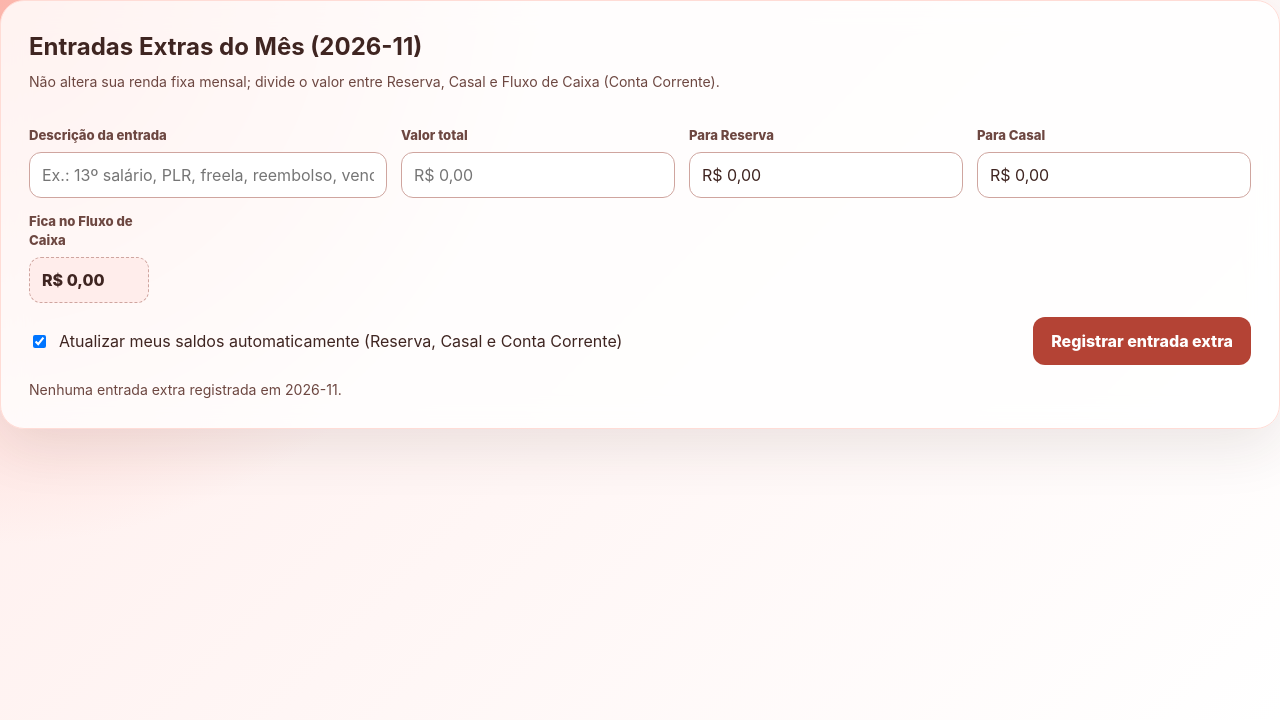
Test: ExtraIncomesSection › bloqueia envio quando Reserva + Casal excedem o valor total
Later steps or results of the test are not shown.
Type "Freela" into the field labelled "Descrição da entrada" at (208, 175), box [29,152,387,198]
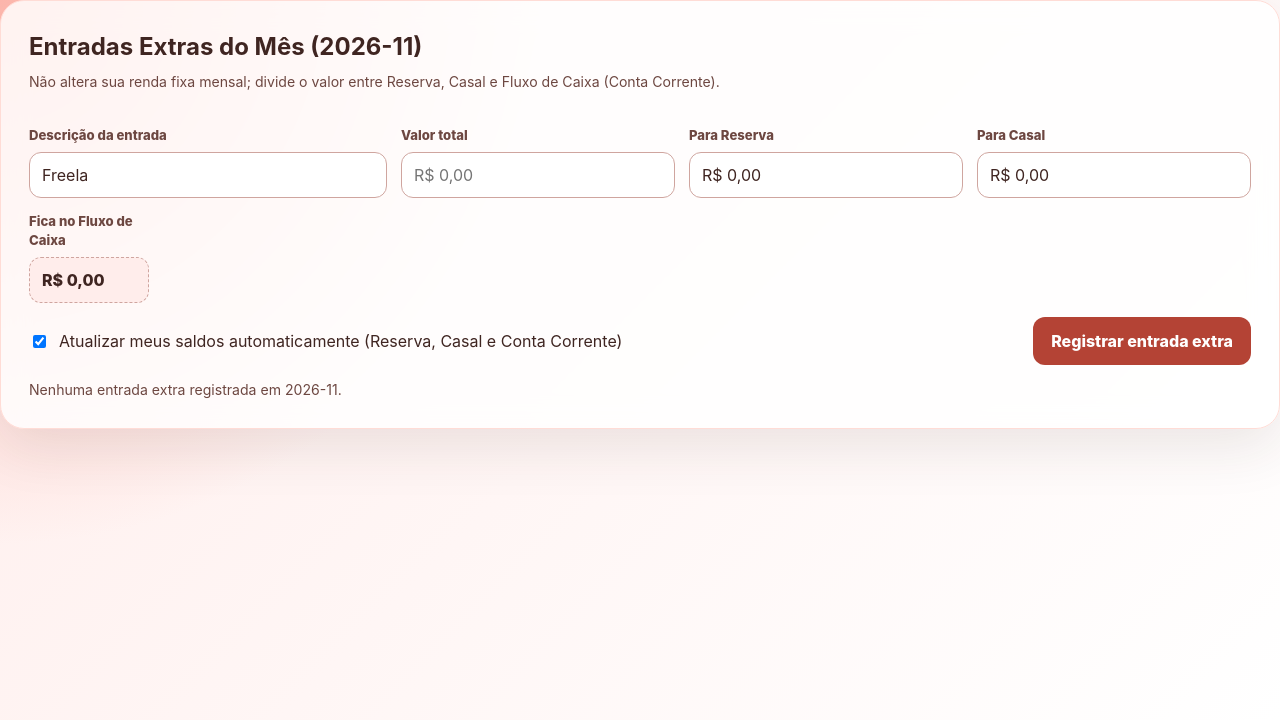
Type "100000" into the field labelled "Valor total" at (538, 175), box [401,152,675,198]
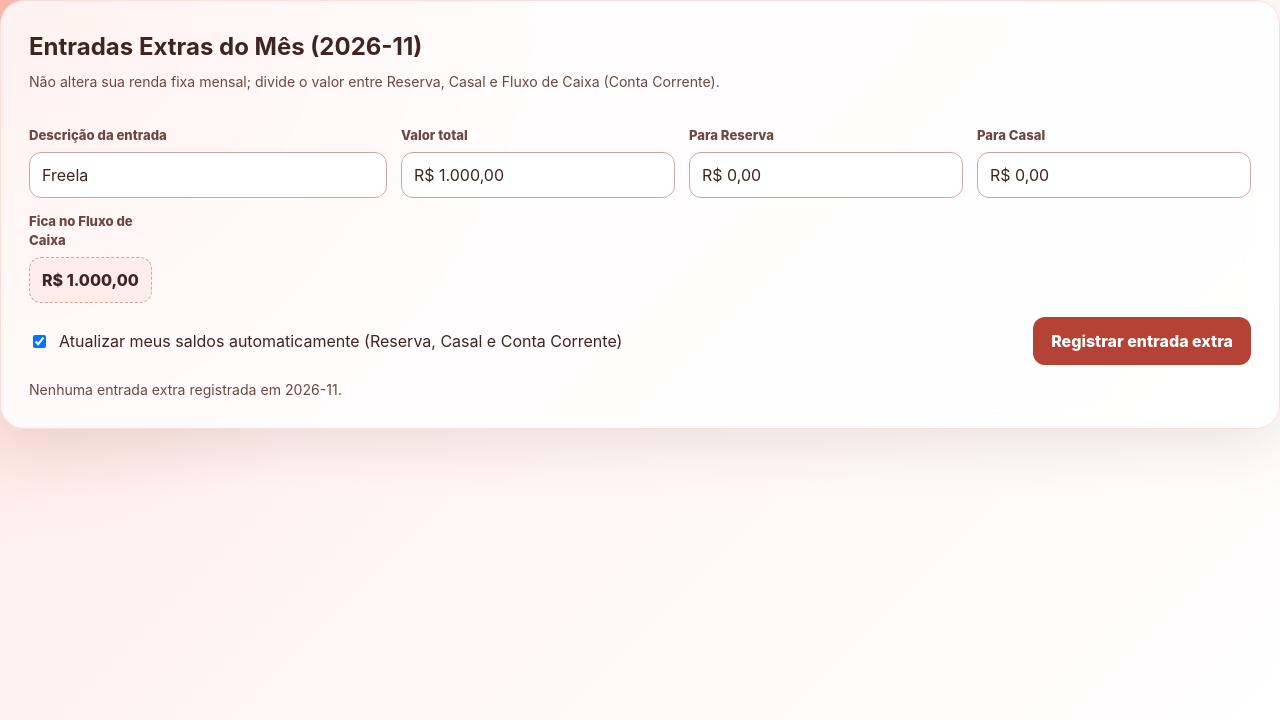
Type "70000" into the field labelled "Para Reserva" at (826, 175), box [689,152,963,198]
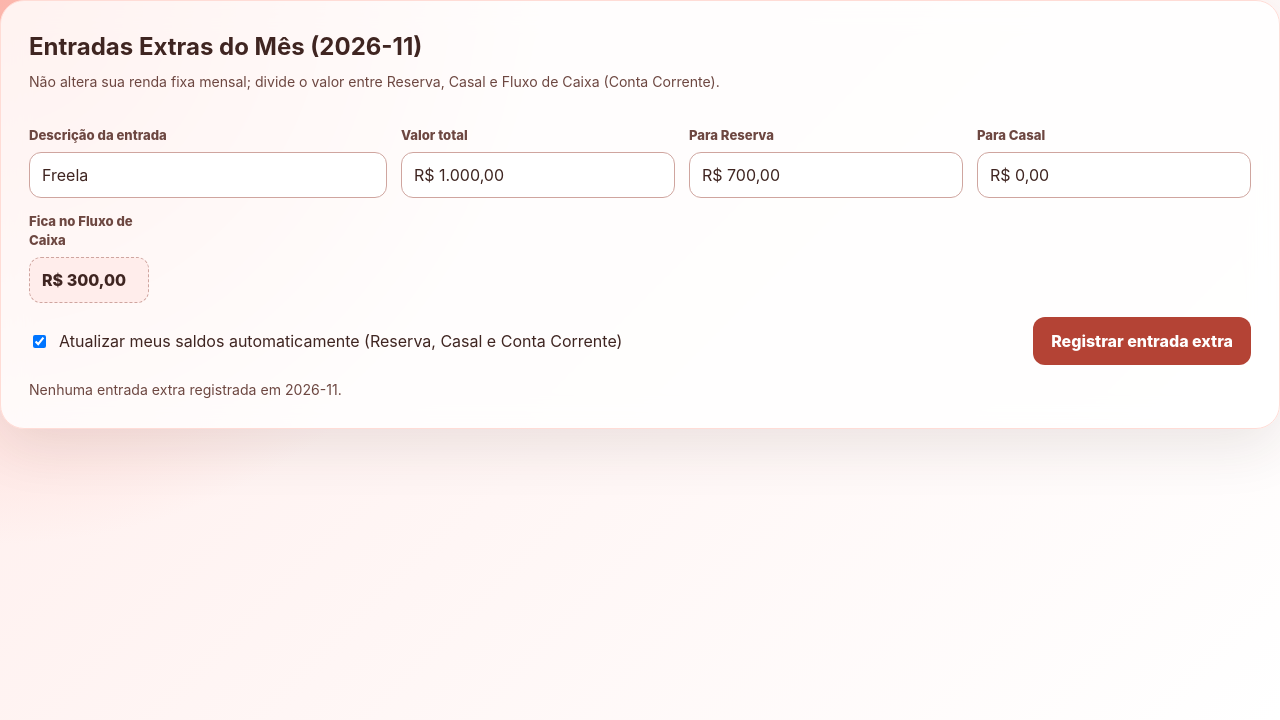
Type "50000" into the field labelled "Para Casal" at (1114, 175), box [977,152,1251,198]
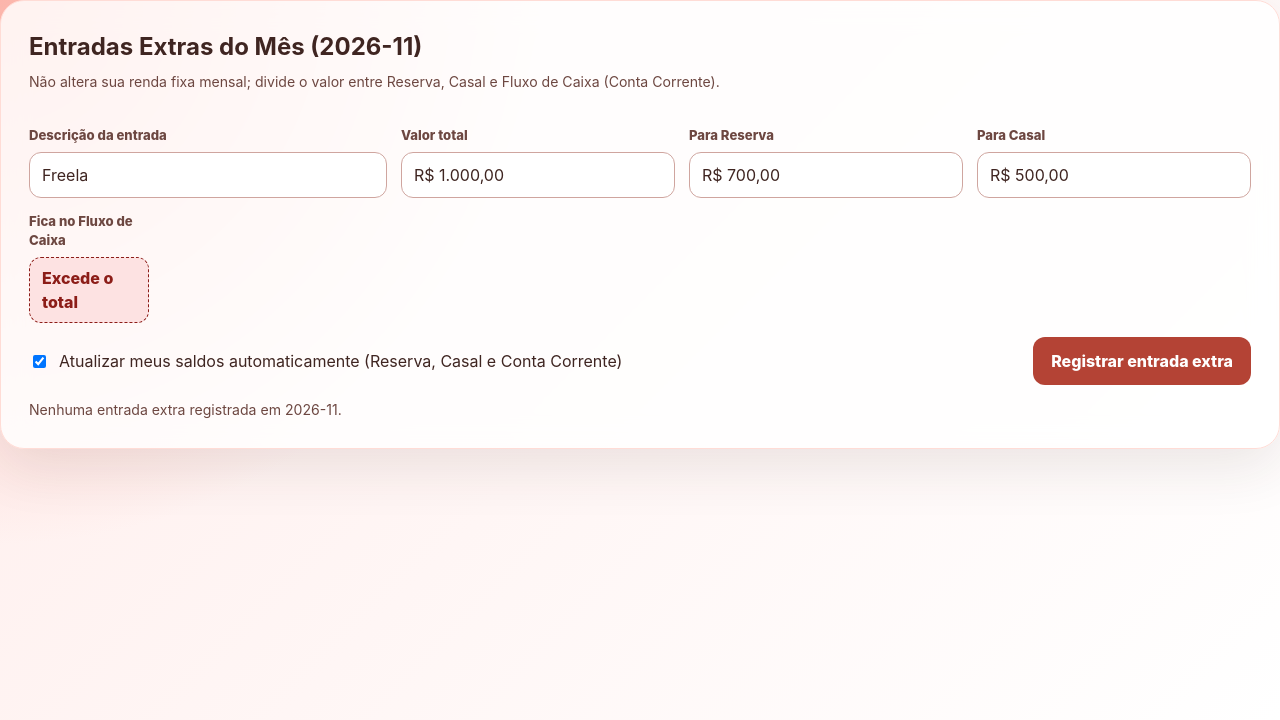
Expected: the text with test id "extra-to-checking" reads "Excede o total", [42,268,113,312]
